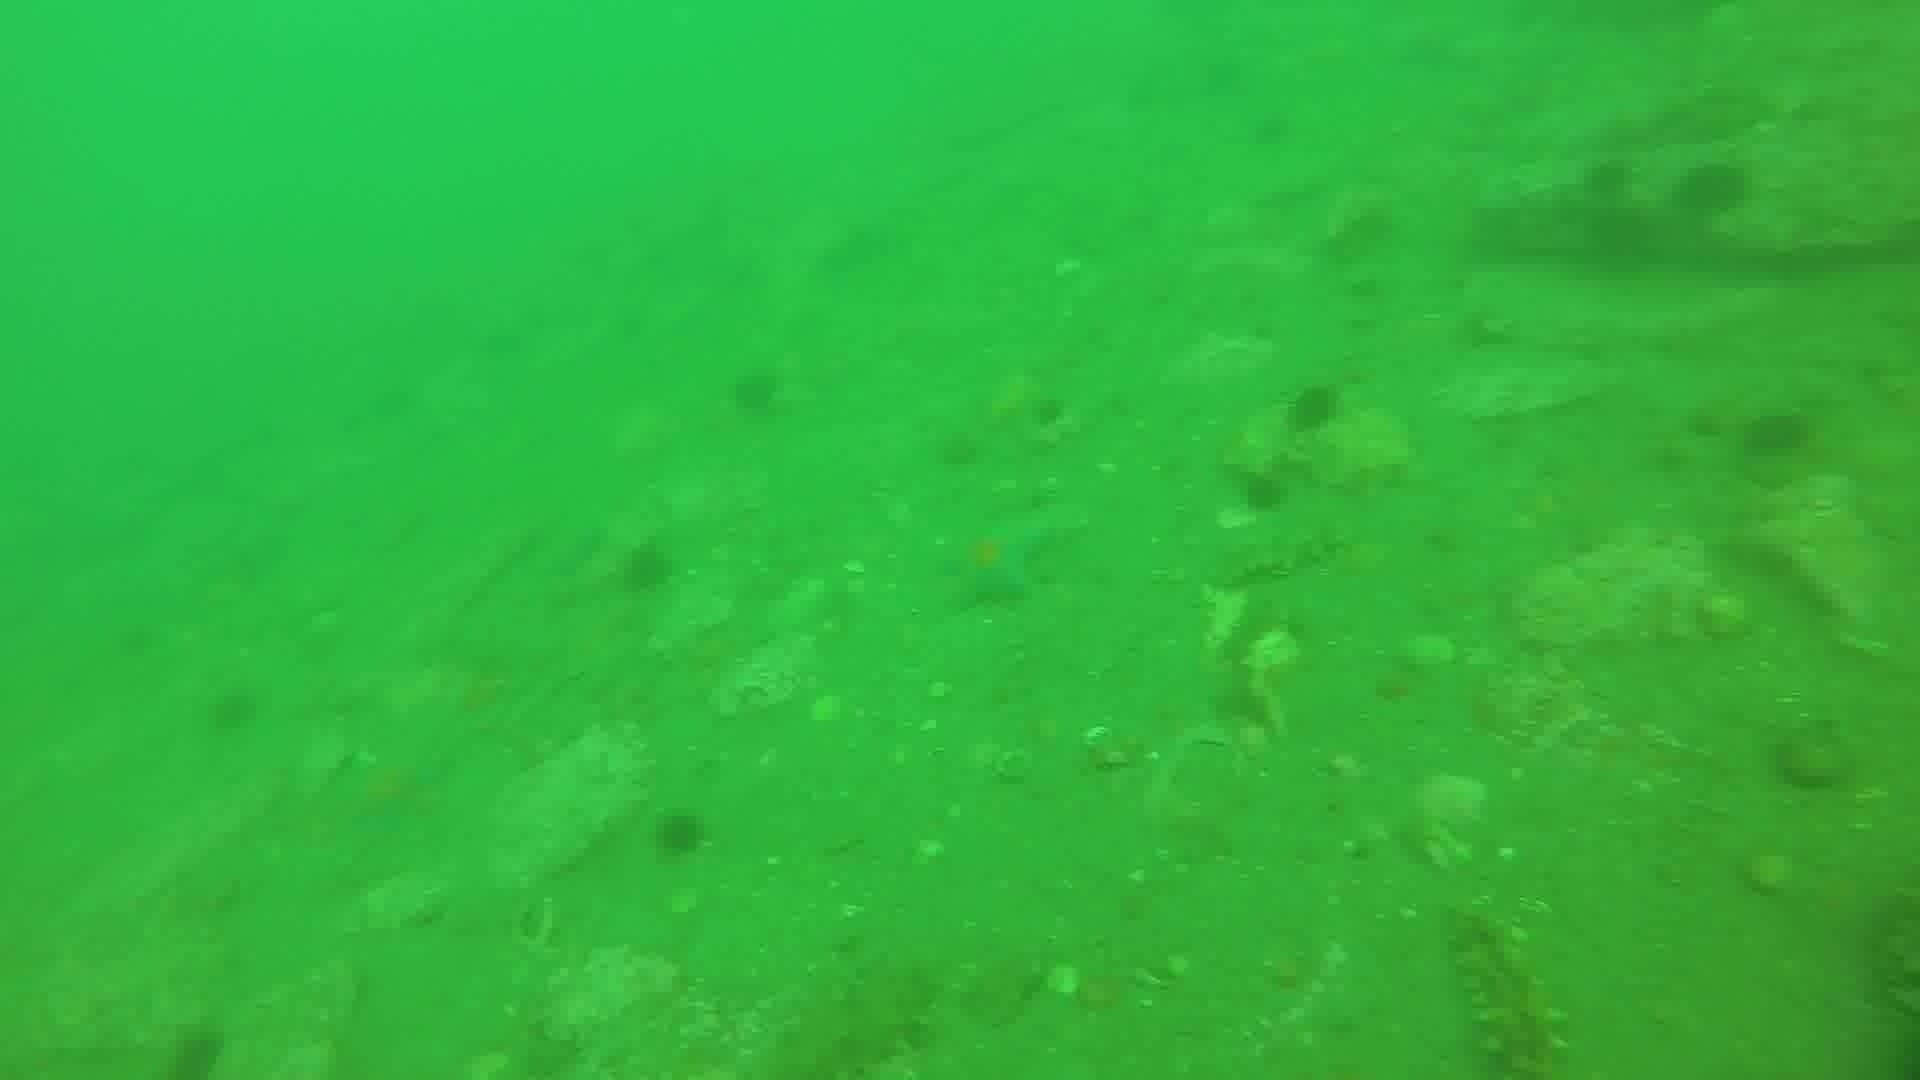echinus: (1671, 156, 1756, 224), (1738, 405, 1816, 465), (1279, 378, 1346, 439), (161, 1022, 231, 1080), (613, 538, 680, 597), (647, 804, 713, 864), (1576, 154, 1640, 210), (200, 683, 265, 738), (725, 363, 787, 419), (1234, 468, 1292, 520)
holothurian: (764, 949, 944, 1079), (1443, 909, 1568, 1077), (1209, 510, 1350, 591)
starfish: (935, 510, 1058, 612), (331, 742, 448, 837)
